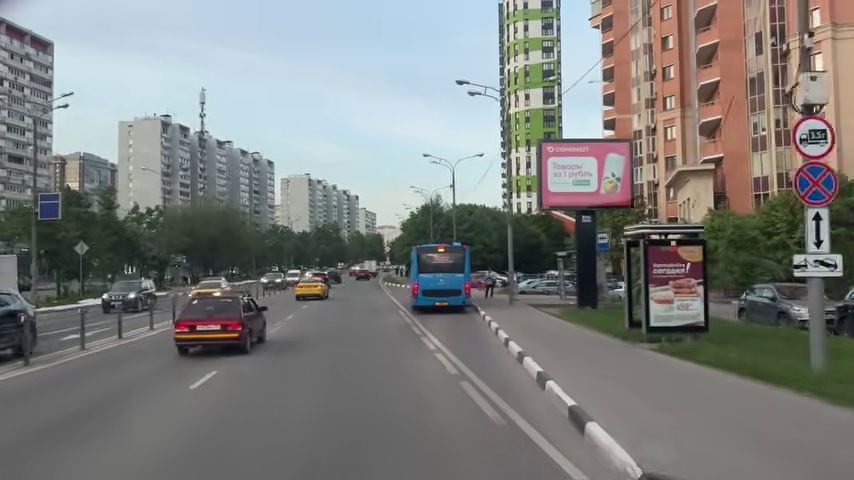apagada: (453, 77, 478, 99), (54, 91, 75, 114), (420, 151, 435, 165)
